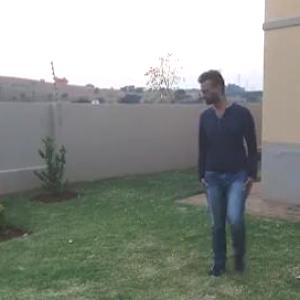follow: (181, 58, 260, 296)
